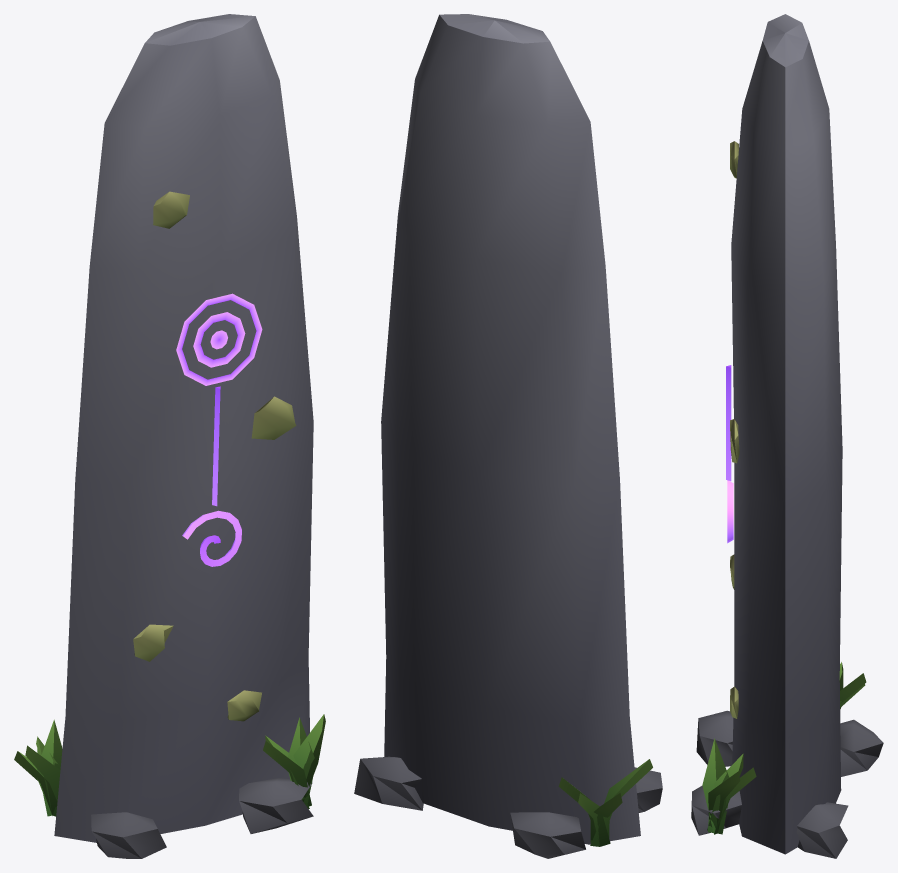
Rendered from megalith.glb.
3 views of the same model, side by side, from view 1: azimuth 30°, elevation 25°; view 2: azimuth 150°, elevation 25°; view 3: azimuth 270°, elevation 25° (orthographic).
Parts seen in each view (by area): view 1: megalith_trim, megalith_glow, megalith; view 2: megalith_trim, megalith; view 3: megalith_trim, megalith, megalith_glow.
Part boxes in pixels (<box>): megalith_trim: <box>54,14,313,858</box>; megalith_glow: <box>176,293,262,566</box>; megalith: <box>14,714,325,816</box>; megalith_trim: <box>354,14,662,858</box>; megalith: <box>558,759,652,846</box>; megalith_trim: <box>691,14,883,858</box>; megalith: <box>702,662,866,834</box>; megalith_glow: <box>726,365,733,543</box>.
Bounding box in the file's own units: 0.3819 × 1.01 × 0.2269.
